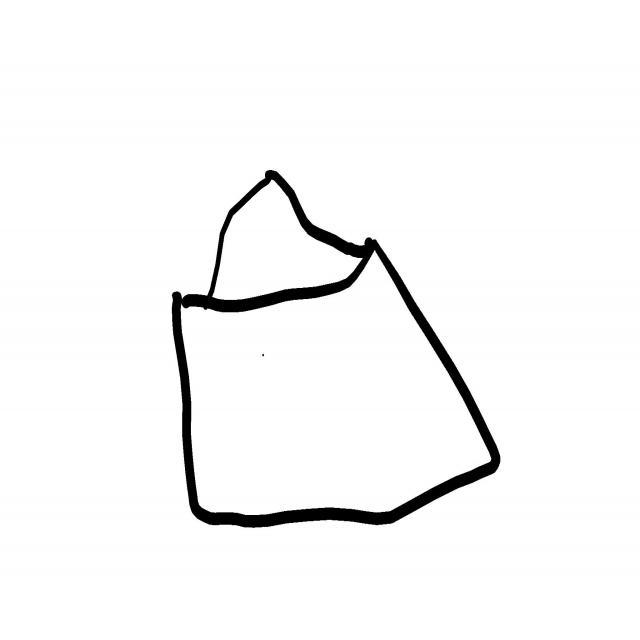house: (172, 171, 499, 528)
roof: (214, 182, 358, 299)
wall: (179, 243, 500, 520)
